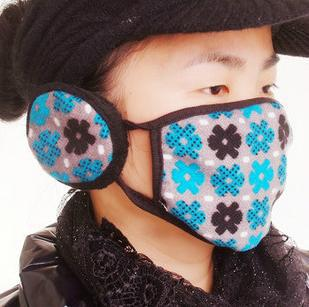OK: (121, 47, 289, 229)
